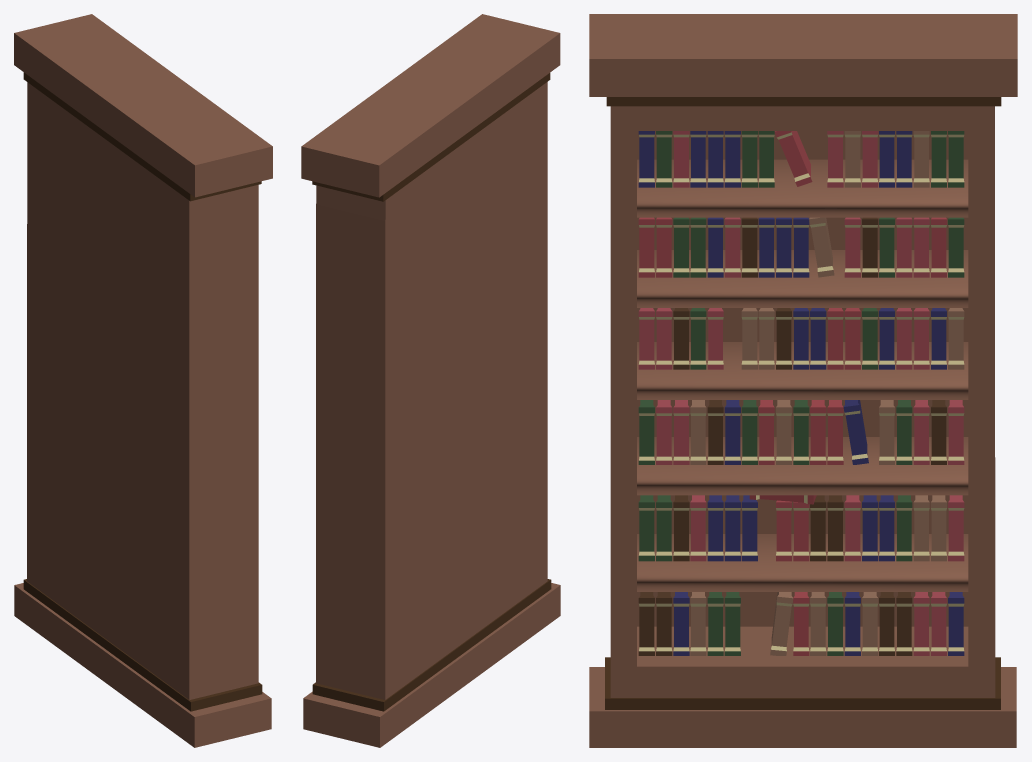
The model's file is missingBooksShelf.fbx.
The picture shows the model from 3 angles, left to right: view 1: azimuth 30°, elevation 25°; view 2: azimuth 150°, elevation 25°; view 3: azimuth 270°, elevation 25°; orthographic projection. The views are drawn at different scales.
Visible parts, largest first — view 1: Cube; view 2: Cube; view 3: Cube, Cube.001, Cube.004, Cube.003, Cube.002, Cube.005, Cube.110, Cube.059, Cube.046, Cube.029, Cube.033, Cube.040 (+100 smaller).
Boxes of the visible parts, left/top/right/bottom form: Cube: left=14, top=14, right=272, bottom=747; Cube: left=301, top=14, right=560, bottom=747; Cube: left=589, top=14, right=1017, bottom=747; Cube.001: left=637, top=159, right=968, bottom=217; Cube.004: left=637, top=437, right=968, bottom=495; Cube.003: left=637, top=342, right=968, bottom=399; Cube.002: left=637, top=250, right=968, bottom=307; Cube.005: left=637, top=534, right=968, bottom=591; Cube.110: left=774, top=131, right=812, bottom=186; Cube.059: left=843, top=400, right=868, bottom=464; Cube.046: left=948, top=495, right=964, bottom=561; Cube.029: left=656, top=495, right=672, bottom=561; Cube.033: left=724, top=495, right=740, bottom=561; Cube.040: left=844, top=495, right=860, bottom=561.
Size of the model in its own units: 162 by 1155 by 650.
